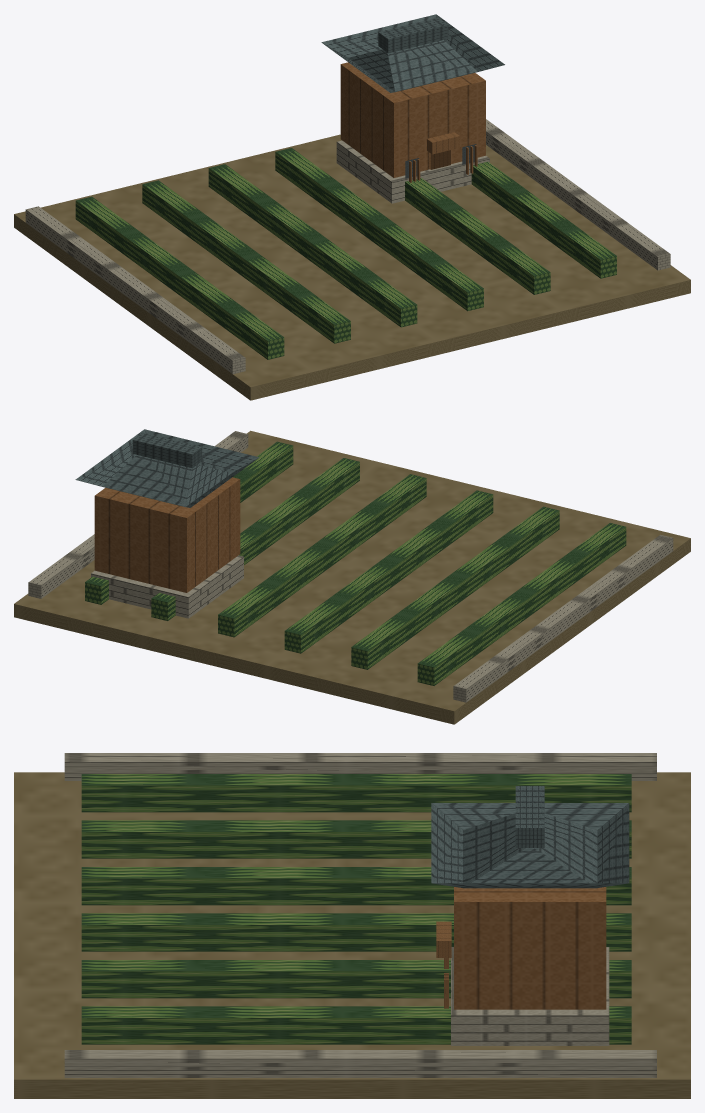
The model's file is domestic-FARM-3-lod1.glb.
3 renders of one model, top to bottom at view 1: azimuth 30°, elevation 25°; view 2: azimuth 150°, elevation 25°; view 3: azimuth 270°, elevation 25°, orthographic. The views are drawn at different scales.
Size of the model in its own units: 0.86 by 0.292 by 0.8.
1 material, 1 textured.
